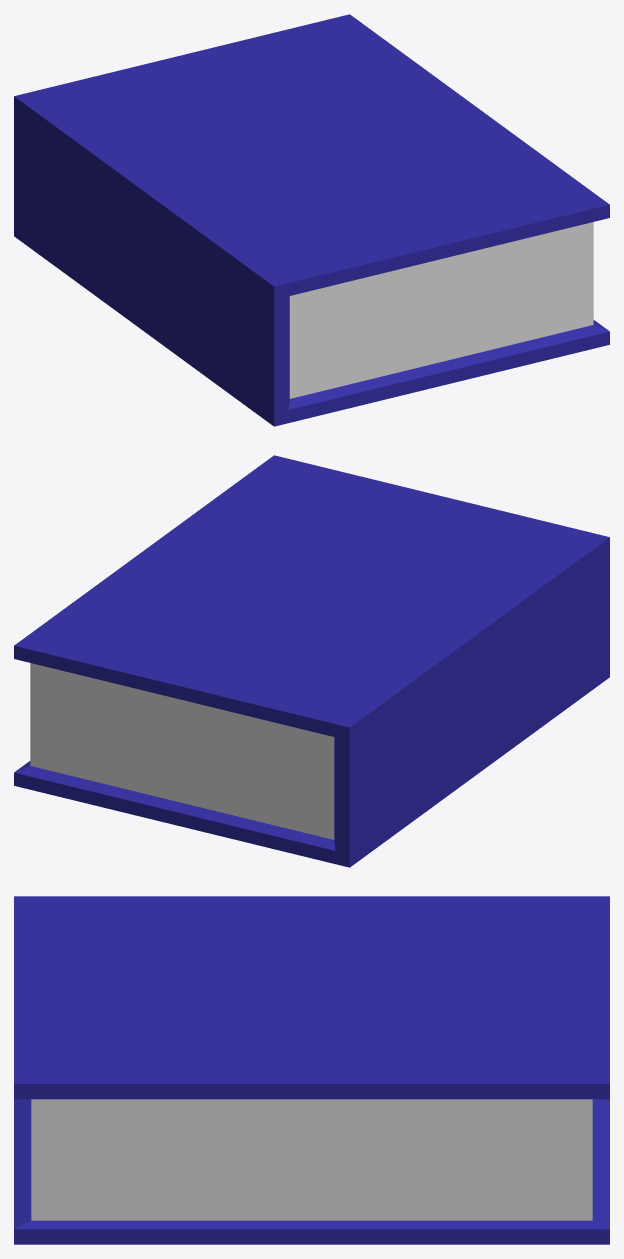
Rendered from Book.fbx.
3 views of the same model, one above another, from view 1: azimuth 30°, elevation 25°; view 2: azimuth 150°, elevation 25°; view 3: azimuth 270°, elevation 25° (orthographic). The views are drawn at different scales.
Visible parts, largest first — view 1: Cube.003; view 2: Cube.003; view 3: Cube.003.
Boxes of the visible parts, box(x1,y1,x2,y2) form: Cube.003: box(14, 14, 609, 426); Cube.003: box(14, 455, 609, 867); Cube.003: box(14, 896, 609, 1244).
Size of the model in its own units: 200 by 79.7 by 268.
